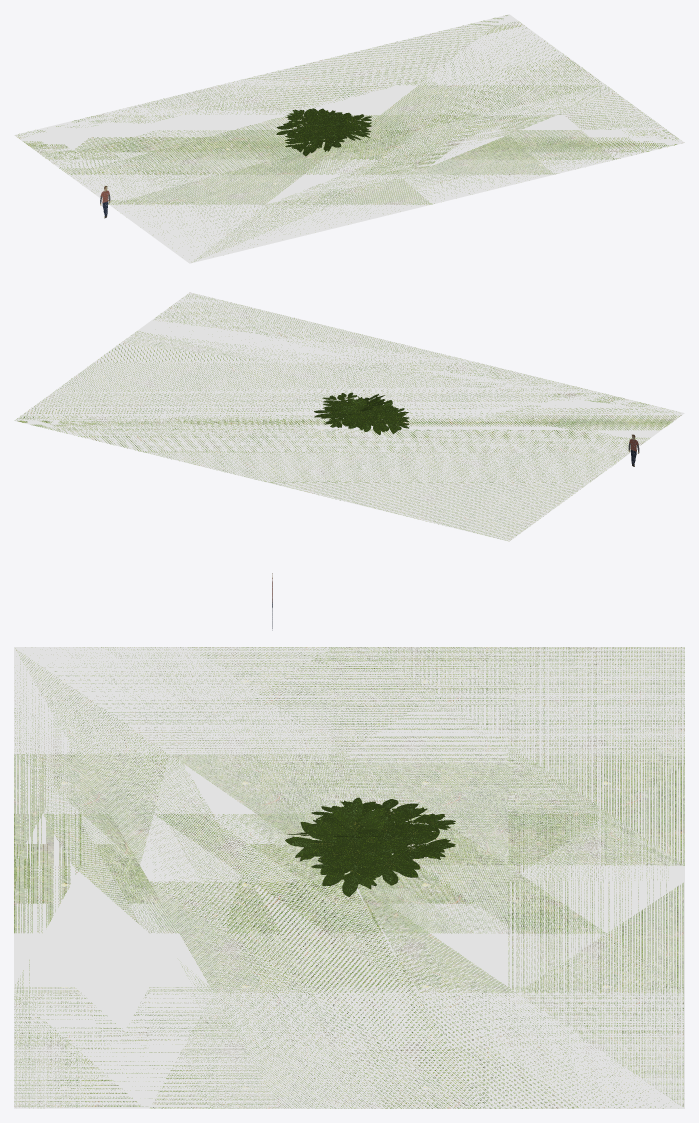
3 renders of one model, top to bottom at view 1: azimuth 30°, elevation 25°; view 2: azimuth 150°, elevation 25°; view 3: azimuth 270°, elevation 25°, orthographic. The views are drawn at different scales.
Parts seen in each view (by area): view 1: SketchUp (×3); view 2: SketchUp (×2); view 3: SketchUp (×6).
Part boxes in pixels (x1,y1,x2,y2): SketchUp (×3): (14, 14, 684, 263); SketchUp (×2): (14, 292, 684, 541); SketchUp (×6): (14, 647, 684, 1108).
Bounding box in the file's own units: 1196 × 703 × 78.19.
13 materials, 2 textured.
